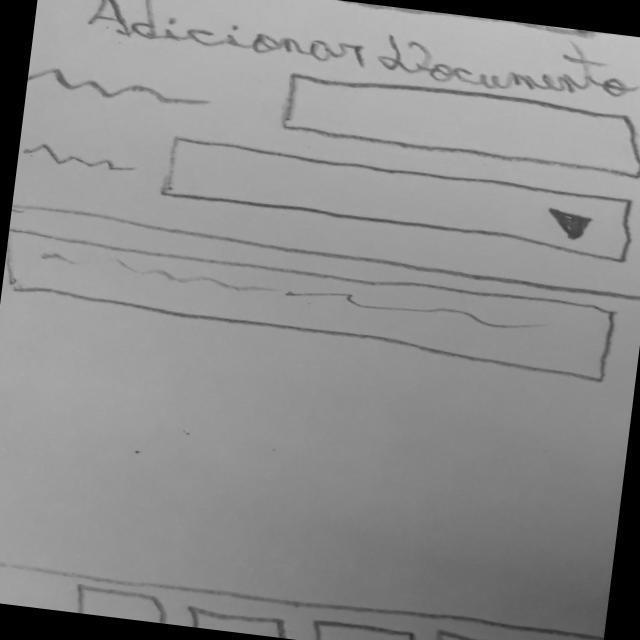container: (1, 204, 640, 640), (10, 1, 640, 305), (1, 555, 605, 640), (277, 68, 640, 184), (70, 581, 181, 626), (182, 603, 302, 640), (311, 615, 429, 640), (433, 627, 555, 640)
input: (1, 224, 622, 387)
label: (85, 1, 640, 109)
select: (158, 131, 640, 267)
text: (27, 64, 217, 115), (26, 140, 146, 179)
